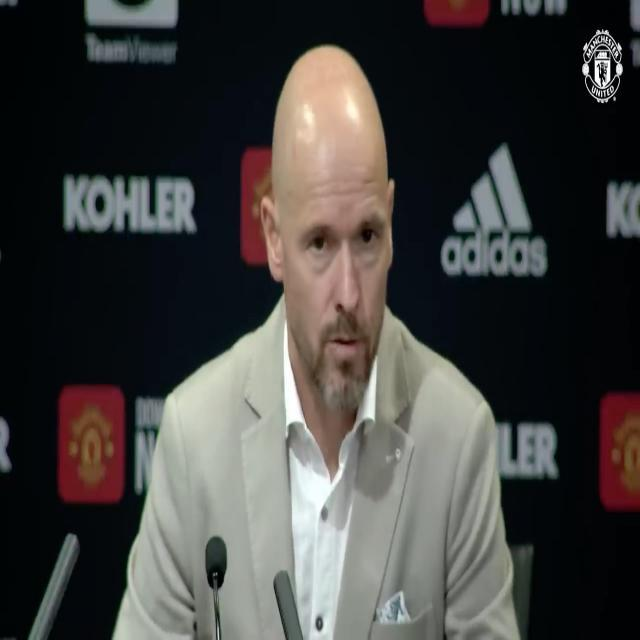Adidas: (440, 144, 549, 277)
Kohler: (63, 174, 197, 234)
TeamViewer: (86, 0, 177, 63)
